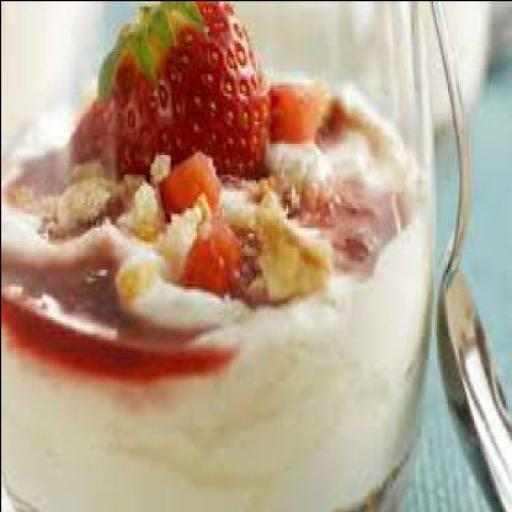biodegradable: (91, 1, 267, 180), (243, 190, 331, 308), (173, 215, 244, 291), (45, 154, 110, 226), (156, 187, 220, 257), (262, 79, 326, 143), (156, 148, 218, 210), (309, 89, 373, 146), (115, 179, 172, 241), (63, 87, 103, 157), (112, 232, 154, 294)
glass: (2, 1, 434, 510)
metal: (427, 0, 510, 510)
